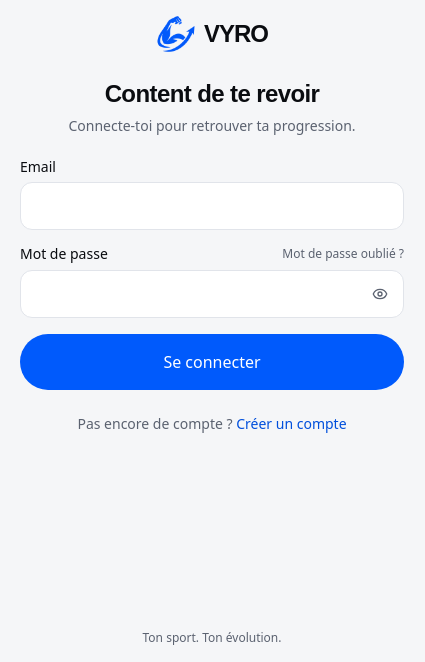
Test case: Authentication flows › shows invalid credentials clearly
In the field labelled "Email": (212,206) [20,182,404,230], type "alex@vyro.test"
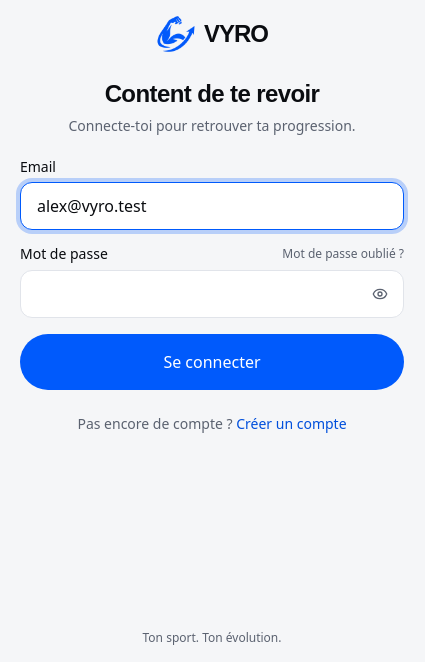
In the password field labelled "Mot de passe": (212,294) [20,270,404,318], type "Mauvais1"
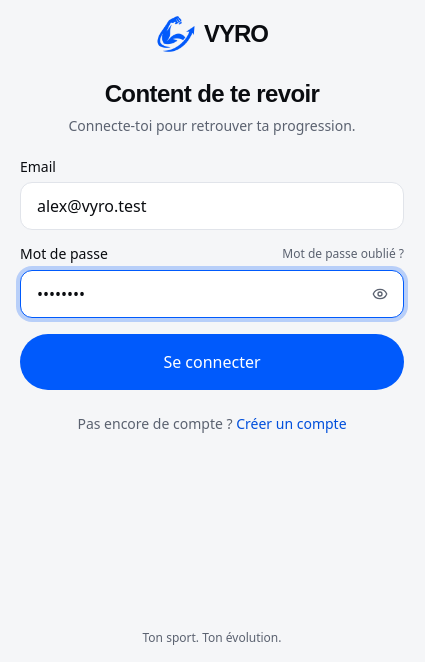
Click the button "Se connecter": (212,362) [20,334,404,390]
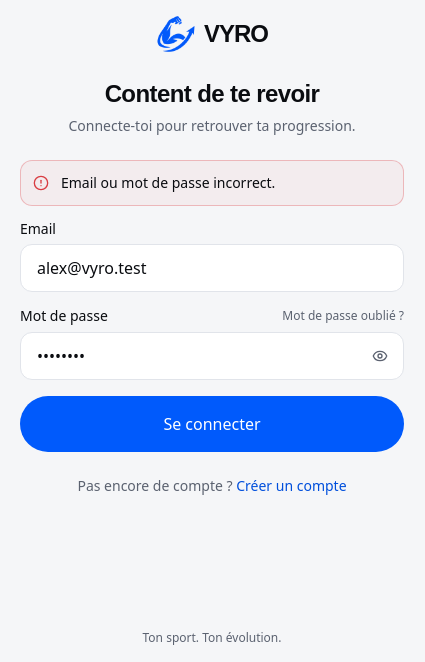
Check: the message reads "Email ou mot de passe incorrect.", box [61,173,275,192]
